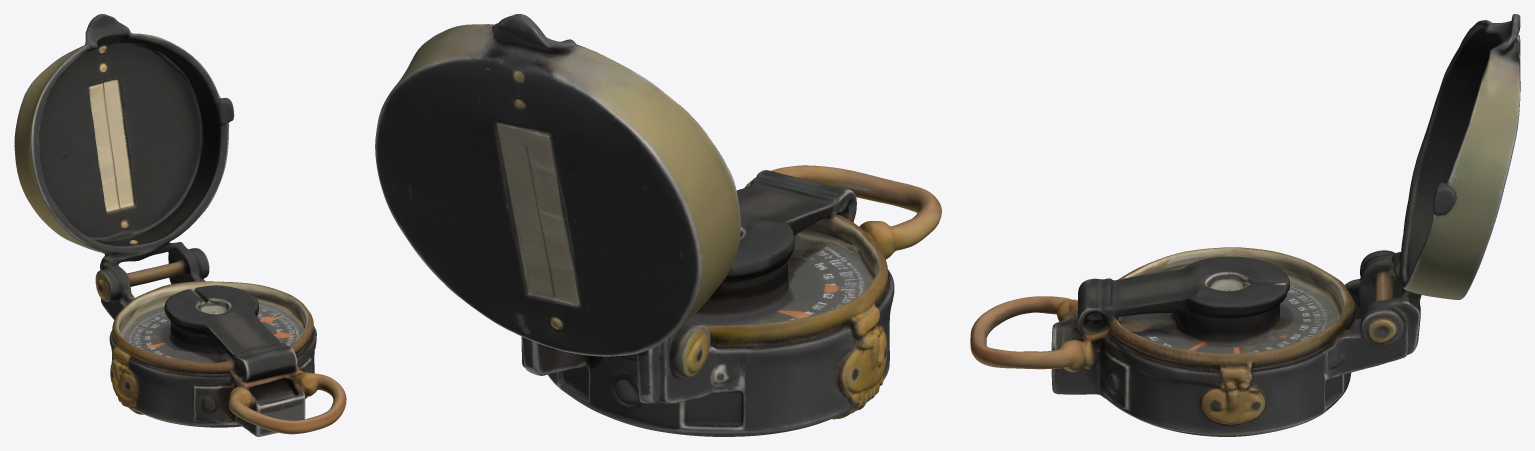
The model's file is Lensatic Compass.glb.
3 views of the same model, side by side, from view 1: azimuth 30°, elevation 25°; view 2: azimuth 150°, elevation 25°; view 3: azimuth 270°, elevation 25° (orthographic). The views are drawn at different scales.
Bounding box in the file's own units: 1.07 × 1.53 × 2.
Materials: 1 (1 with a texture image).
